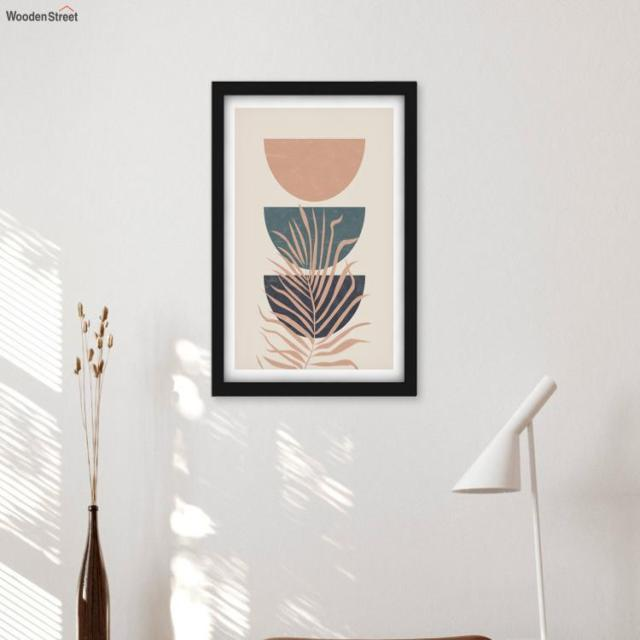painting: (209, 79, 417, 396)
